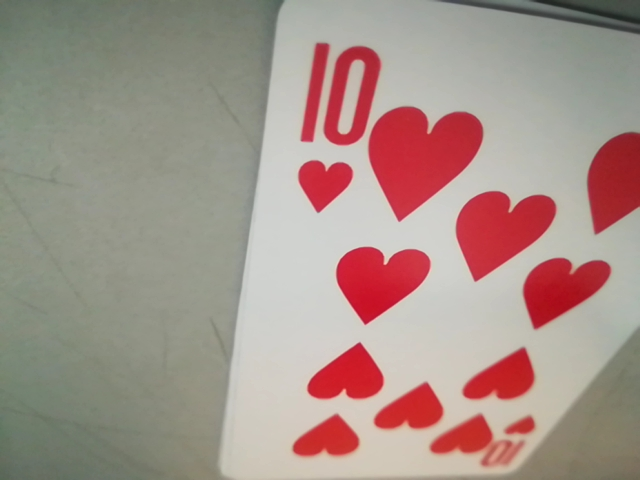hx 10: (297, 37, 382, 217)
